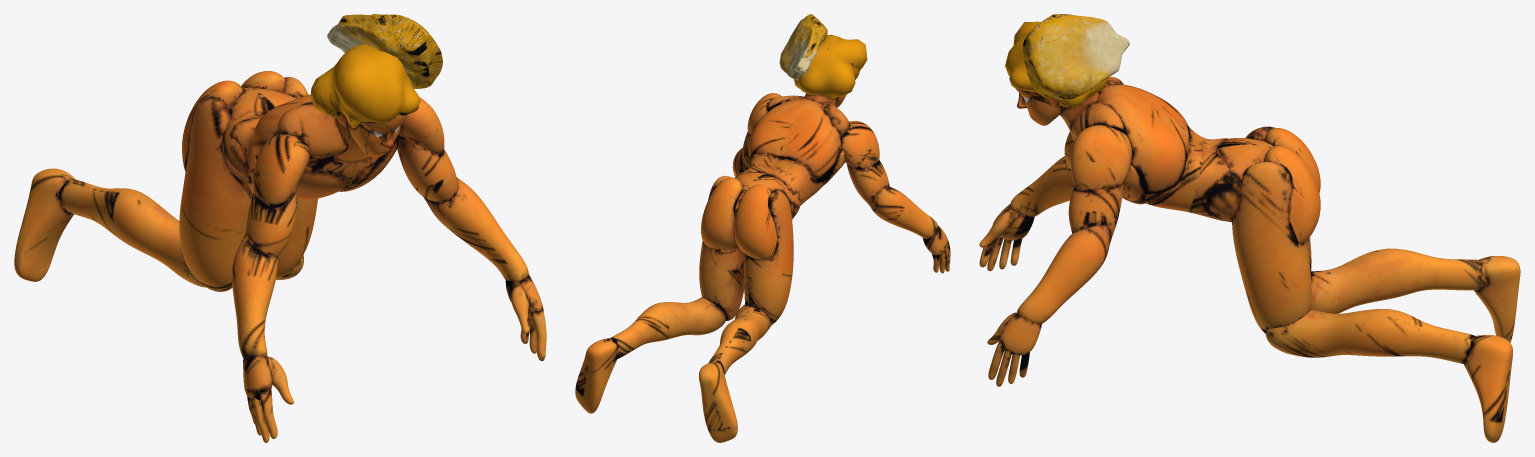
The model's file is Sr_Maiz.fbx.
3 views of the same model, side by side, from view 1: azimuth 30°, elevation 25°; view 2: azimuth 150°, elevation 25°; view 3: azimuth 270°, elevation 25° (orthographic). The views are drawn at different scales.
Parts seen in each view (by area): view 1: Sr.Maiz; view 2: Sr.Maiz; view 3: Sr.Maiz.
Boxes of the visible parts, bbox=[...] form: Sr.Maiz: bbox=[14, 14, 546, 442]; Sr.Maiz: bbox=[575, 14, 950, 442]; Sr.Maiz: bbox=[979, 14, 1520, 442].
Size of the model in its own units: 0.0181 by 0.0251 by 0.0317.
Materials: 2 (2 with a texture image).
